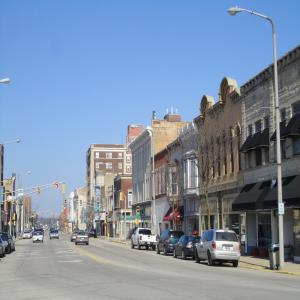Vehicle-registration-plate: (223, 247, 234, 251), (197, 244, 200, 248), (82, 238, 85, 241), (148, 243, 151, 246)
